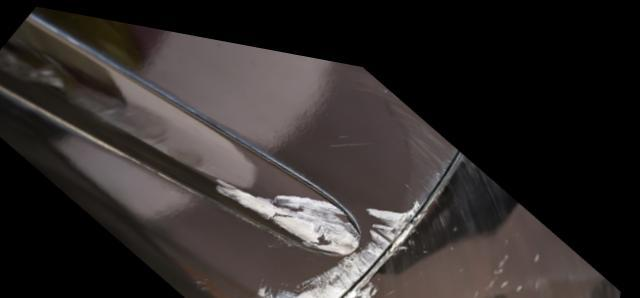scratch: (185, 168, 427, 298), (334, 186, 430, 298)
